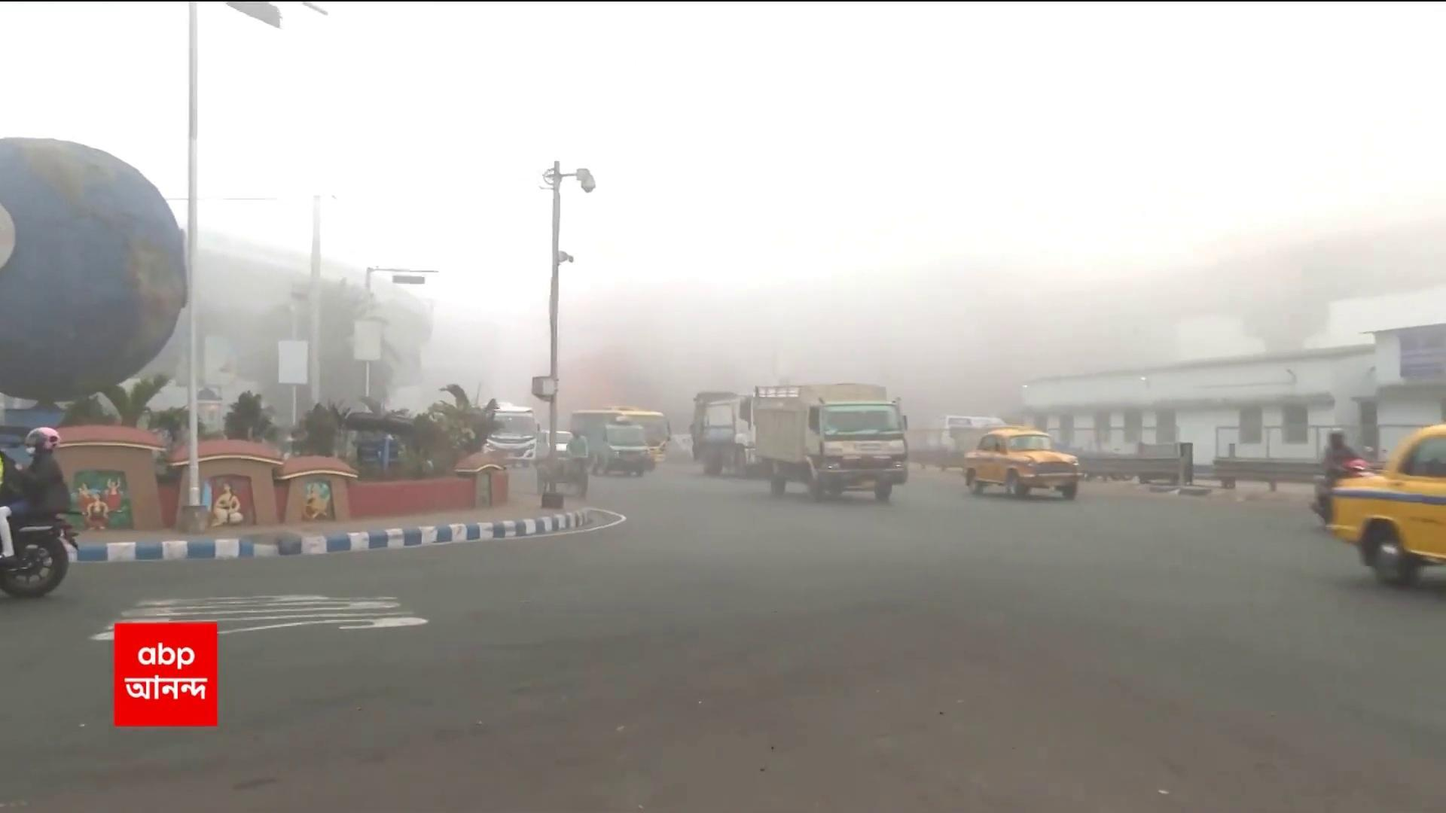Car: (961, 426, 1078, 505)
Truck: (744, 378, 915, 510)
